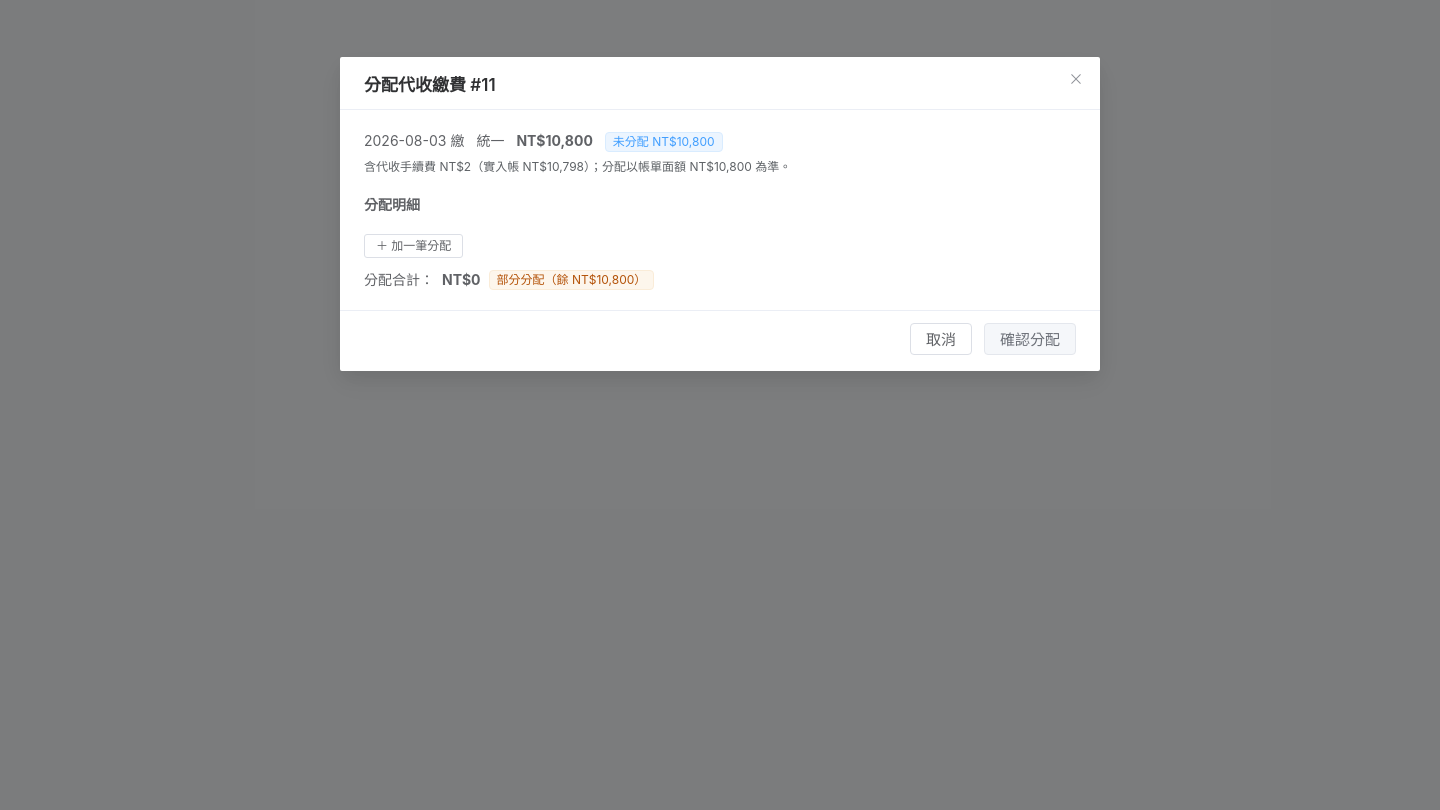
Test case: CollectionAllocationDialog › unmatched（students 為空）時落回手動輸入單號
The image size is (1440, 810).
What coordinates should you click on to do the following:
click the button with test id "add-part"
I would click on:
 (414, 246)
Its box is [364,234,463,258].
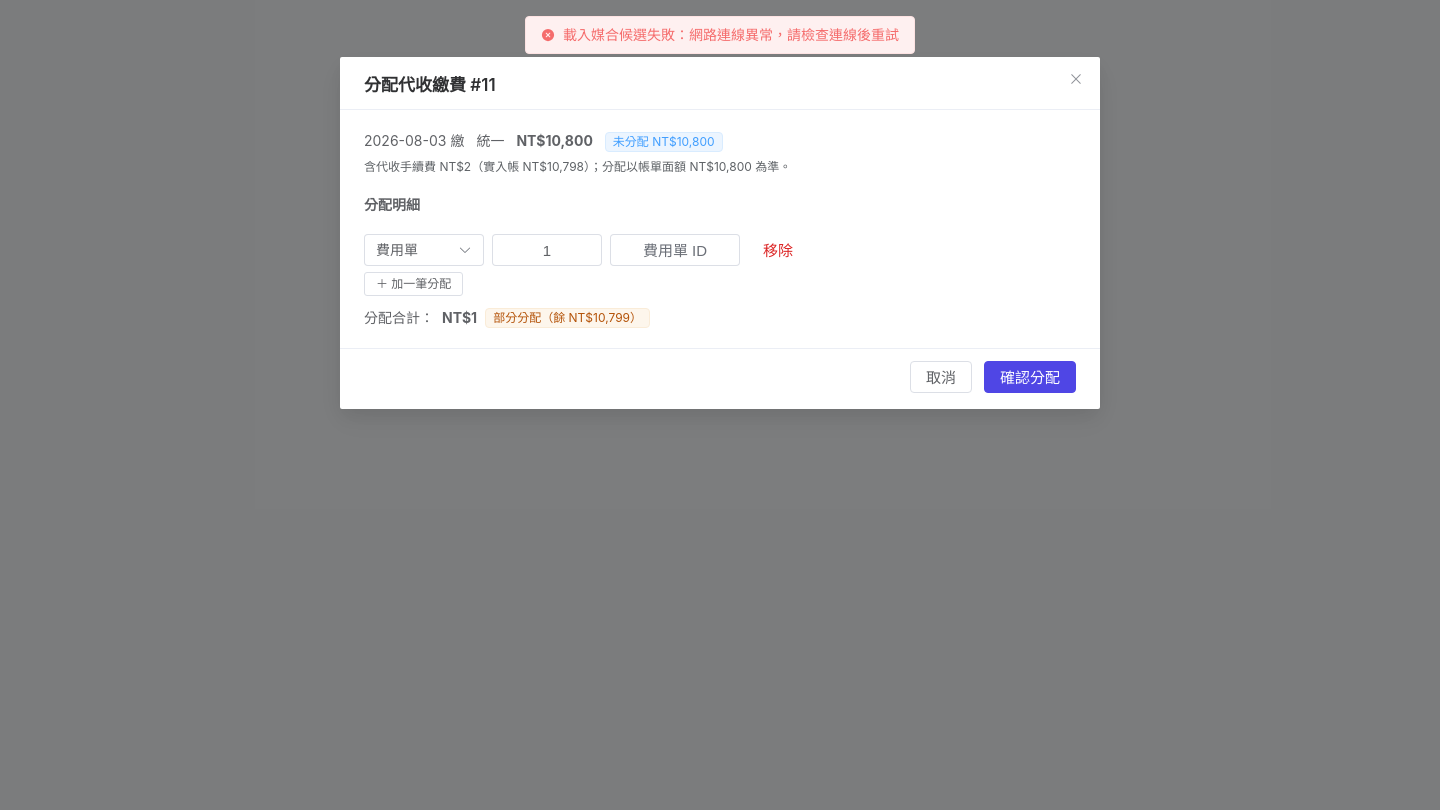
Check: the element with test id "fee-record-id-input" is shown, box [610,234,740,266]
